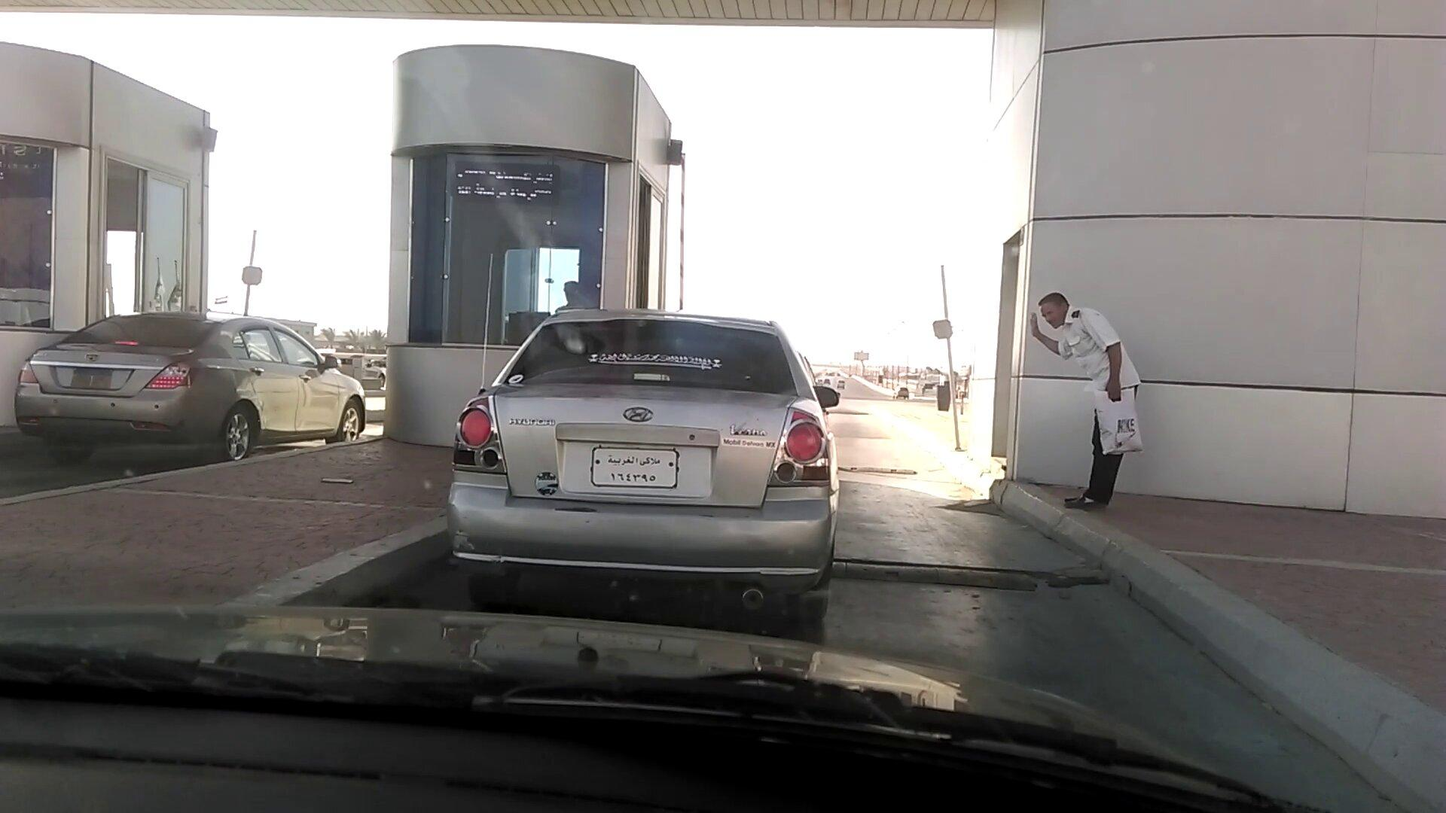Bump: (818, 545, 1143, 618)
